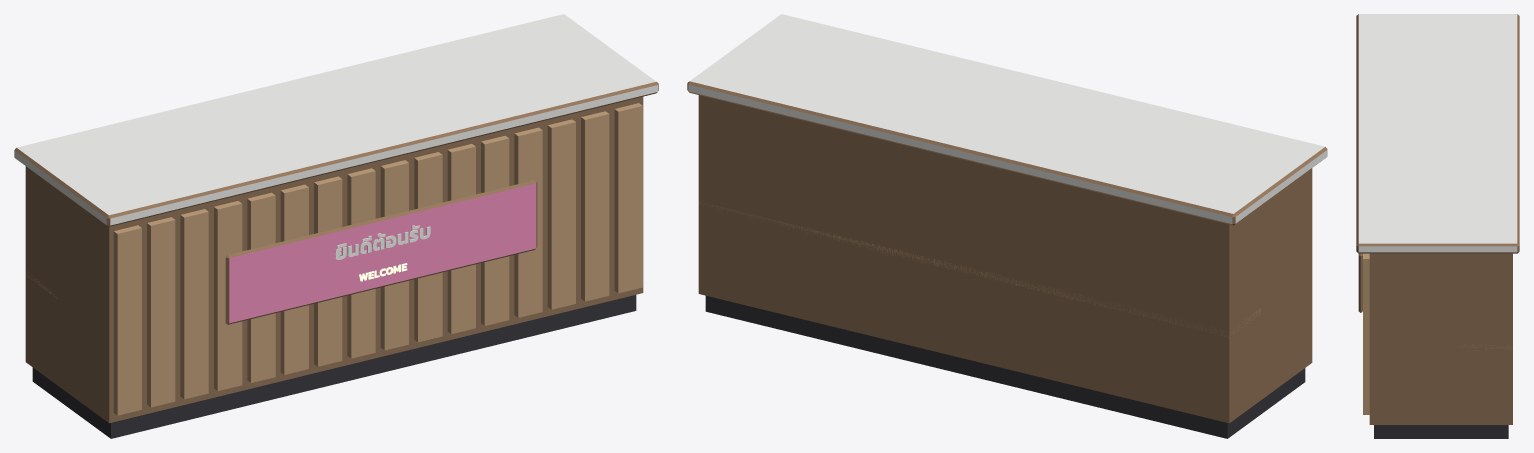
The model's file is SM_Counter.fbx.
The picture shows the model from 3 angles, left to right: view 1: azimuth 30°, elevation 25°; view 2: azimuth 150°, elevation 25°; view 3: azimuth 270°, elevation 25°; orthographic projection. The views are drawn at different scales.
Visible parts, largest first — view 1: SM_Counter; view 2: SM_Counter; view 3: SM_Counter.
Part boxes in pixels (x1,y1,x2,y2): SM_Counter: (14,14,658,438); SM_Counter: (687,14,1327,438); SM_Counter: (1356,14,1519,438).
Size of the model in its own units: 2.48 by 1 by 0.74.
